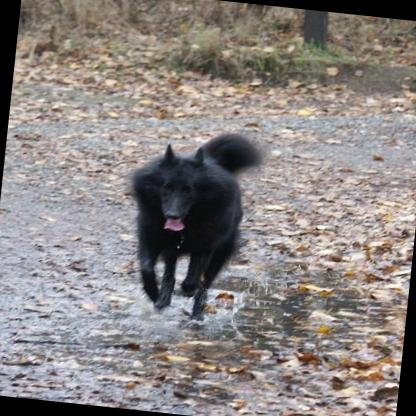groenendael: (112, 118, 266, 329)
